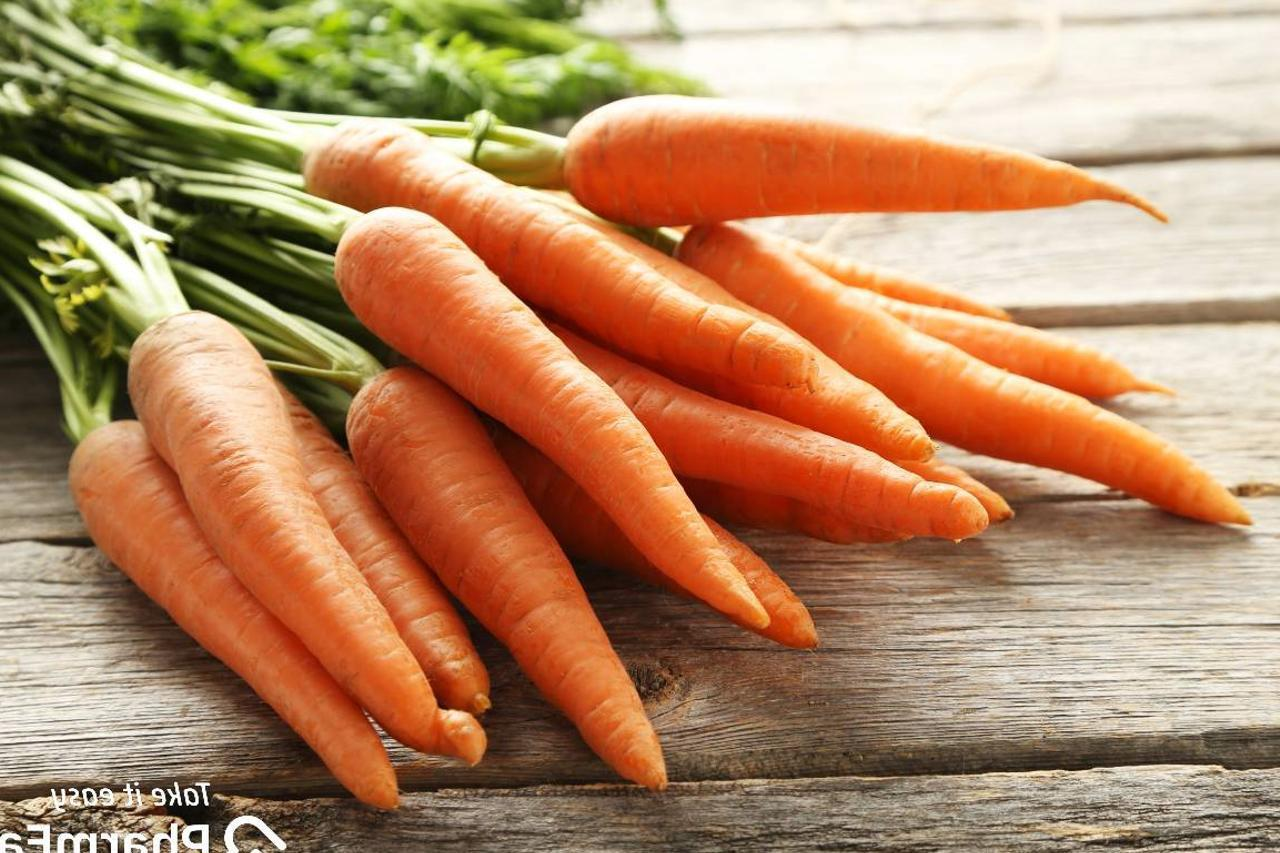carrot: (124, 93, 987, 729), (18, 278, 640, 806), (315, 199, 757, 817), (348, 50, 1185, 271)
